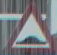Speed Breaker ahead: (6, 2, 56, 52)
